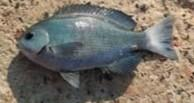fish: (18, 4, 178, 88)
